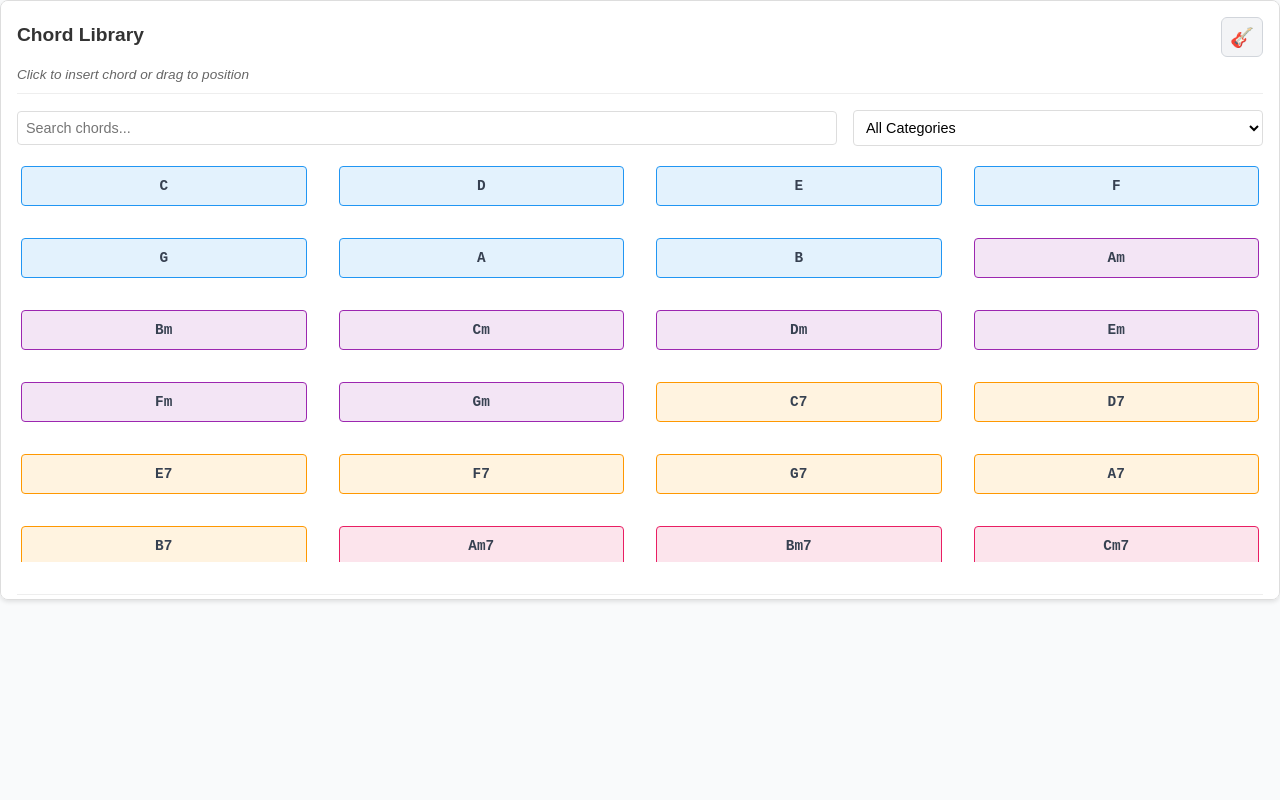
Test: ChordPalette › Diagram Mode › switches to diagram mode when toggle is clicked
Click the button named "Switch to diagram view".
click(1242, 37)  # box left=1221, top=17, right=1263, bottom=57
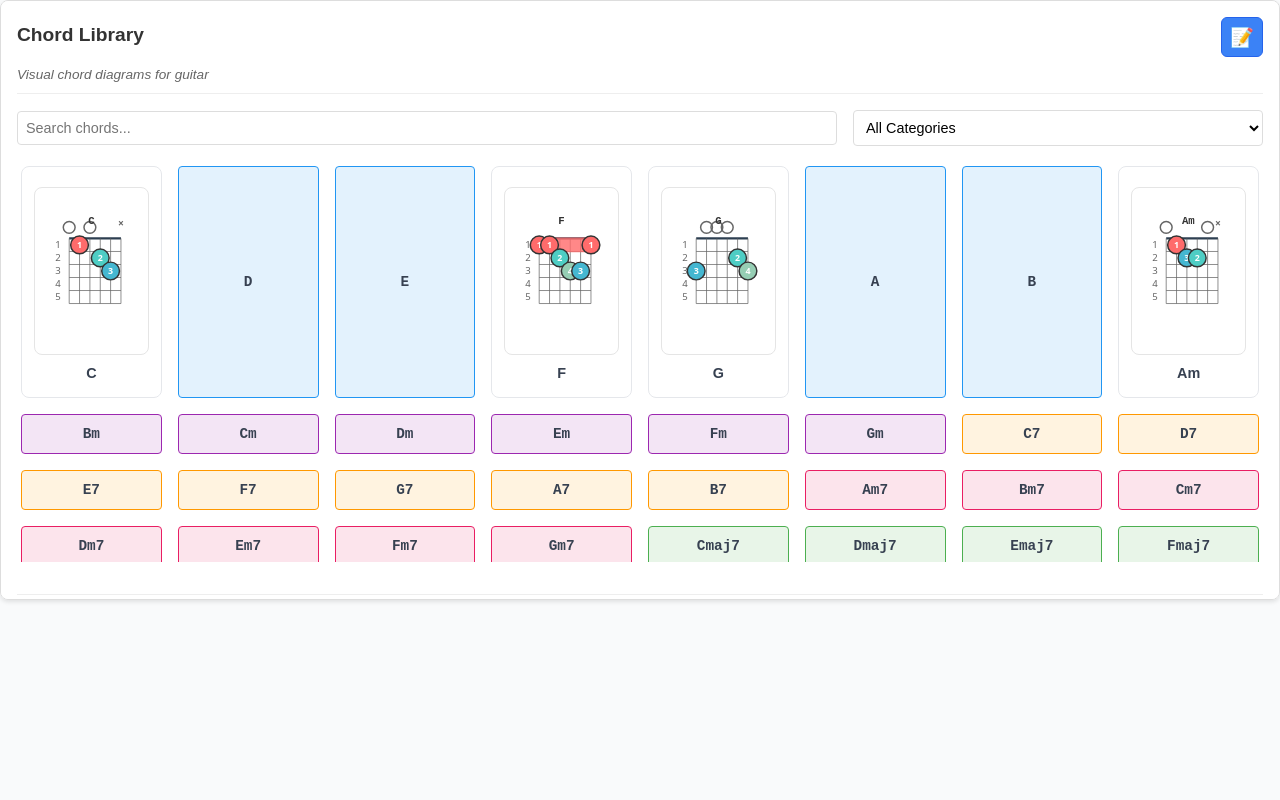
Expected: the text "Visual chord diagrams for guitar" is shown, left=17, top=67, right=209, bottom=82
